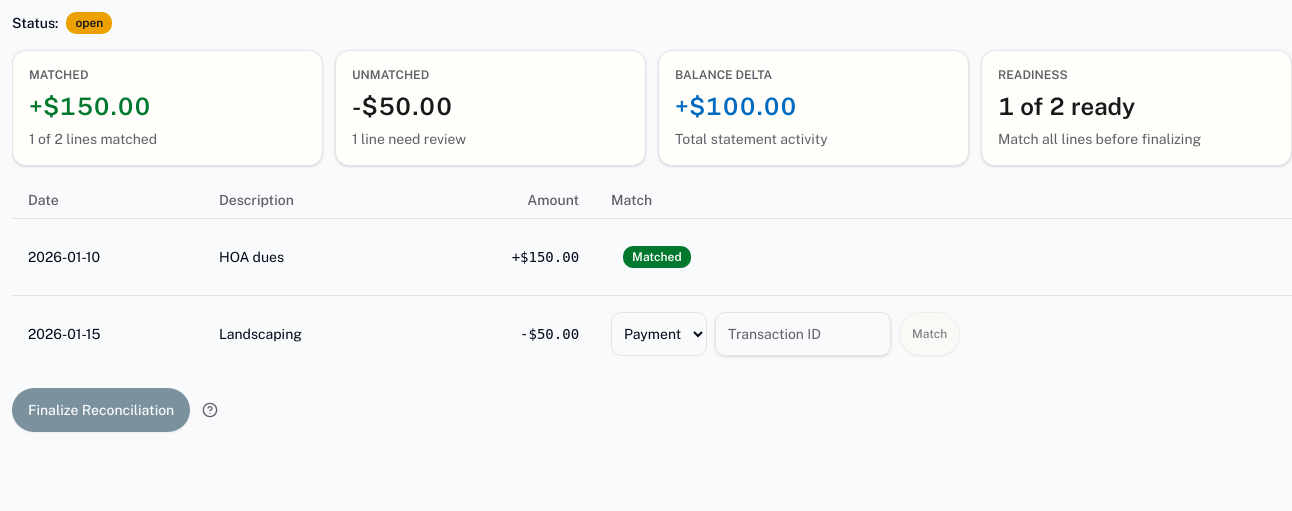
it: ReconcileGrid › shows persist error when unmatch fails
Step 1. Click the button "Matched" → x=657, y=256, box x1=611 y1=234 x2=703 y2=278
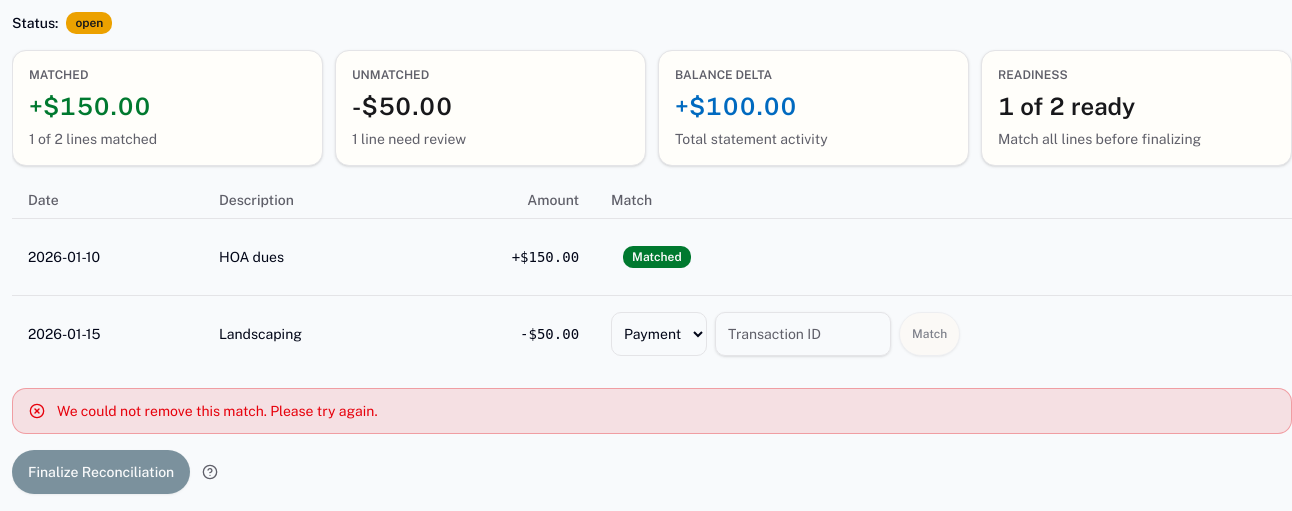
Expected: the text "We could not remove this match. Please try again." is shown, x1=12 y1=388 x2=1291 y2=434
